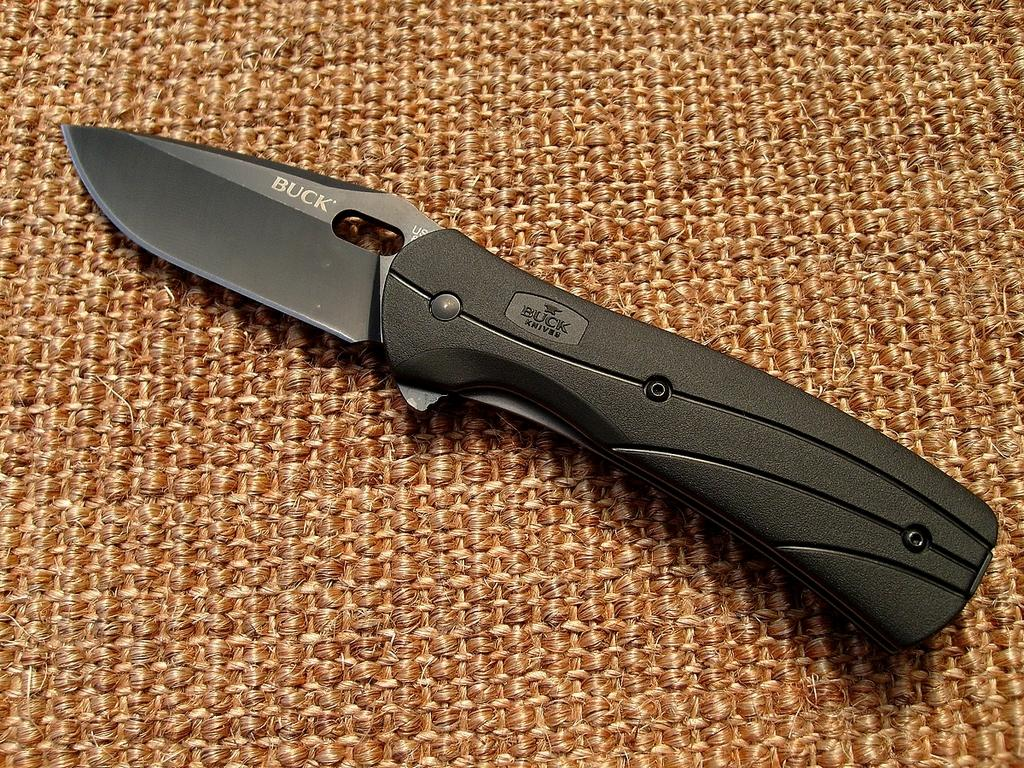knife: (62, 124, 1000, 657)
